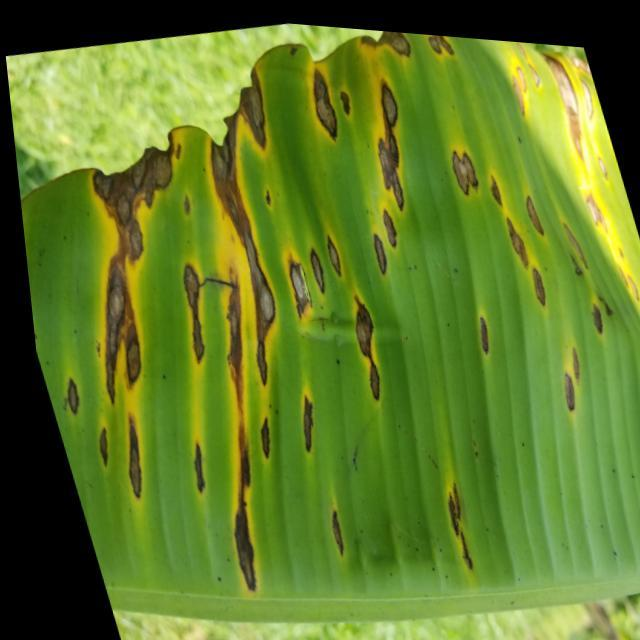Early_rust: (25, 30, 640, 578)
